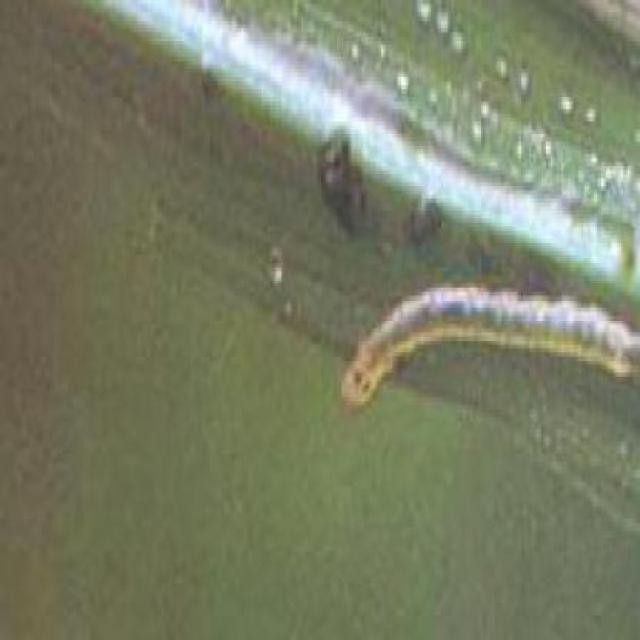leaf-folder: (332, 243, 640, 425)
